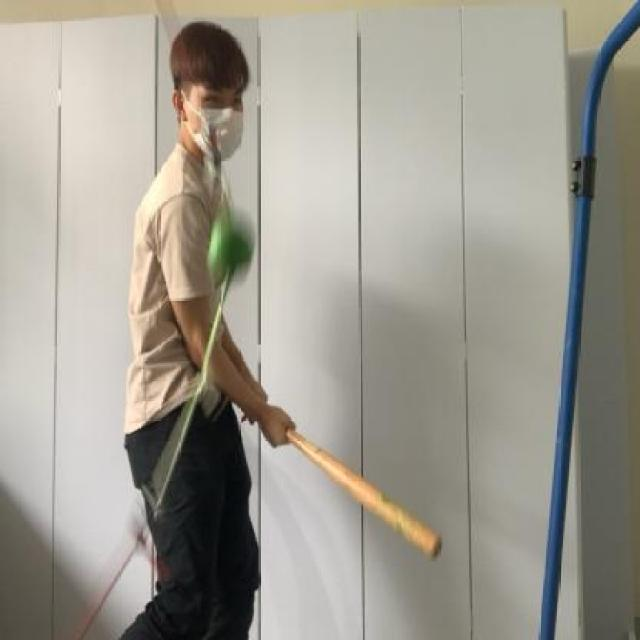baseball: (200, 214, 258, 291)
